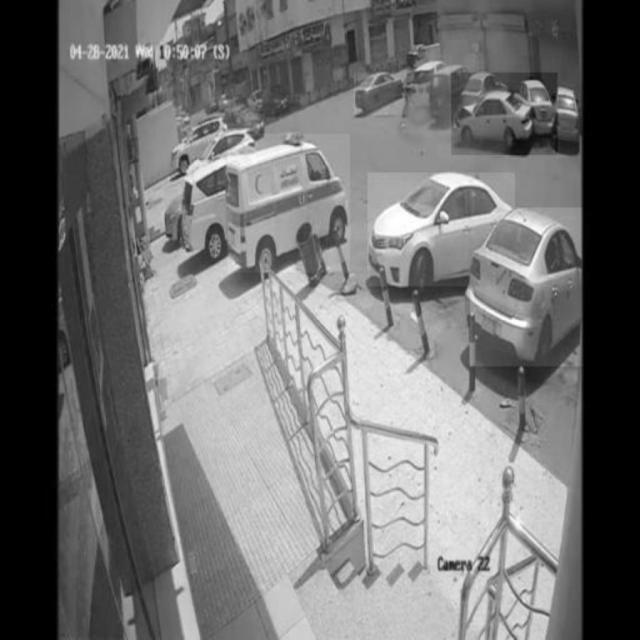accident: (451, 73, 557, 156)
vehicle: (470, 207, 582, 365), (227, 134, 351, 272), (368, 173, 515, 286), (354, 73, 406, 115)
